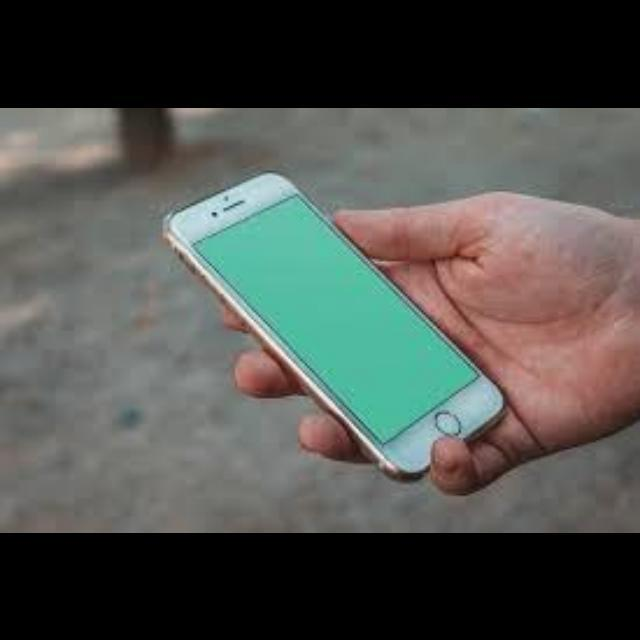phone: (98, 160, 548, 487)
